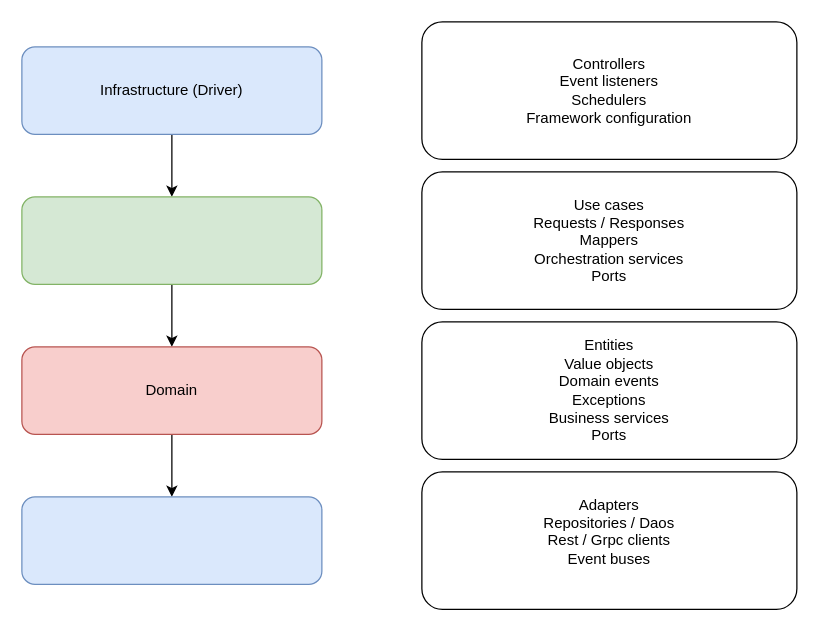
Image size: 819x631. Some labels were removed from this diagram. Each missing label, with the centre of its shape:
Application: (171,240)
Infrastructure (Driven): (171,540)
